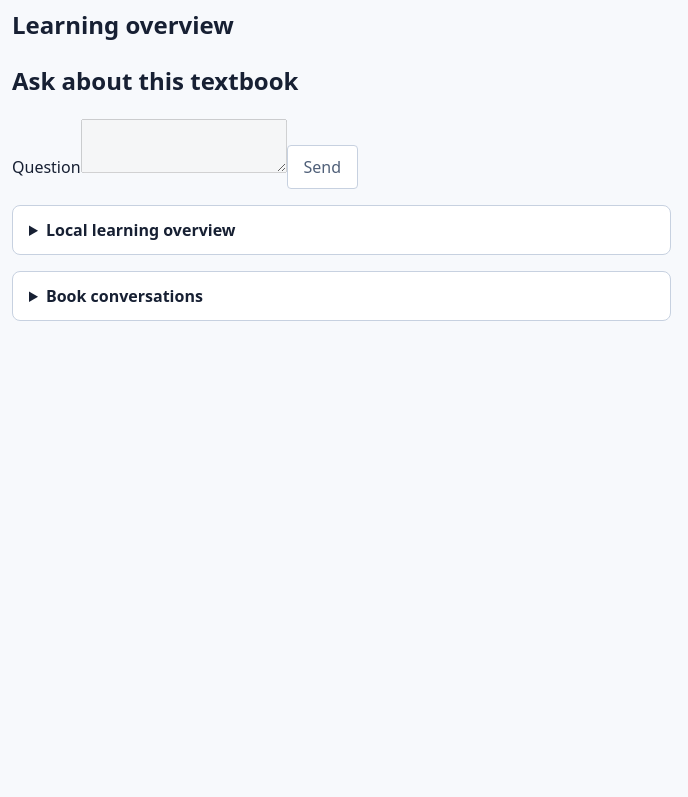
it: OverviewPage › keeps the local overview and completed history usable when AI is unavailable
This screenshot has width=688, height=797.
Click the heading "Local learning overview" at (141, 230), box [46, 219, 236, 241]
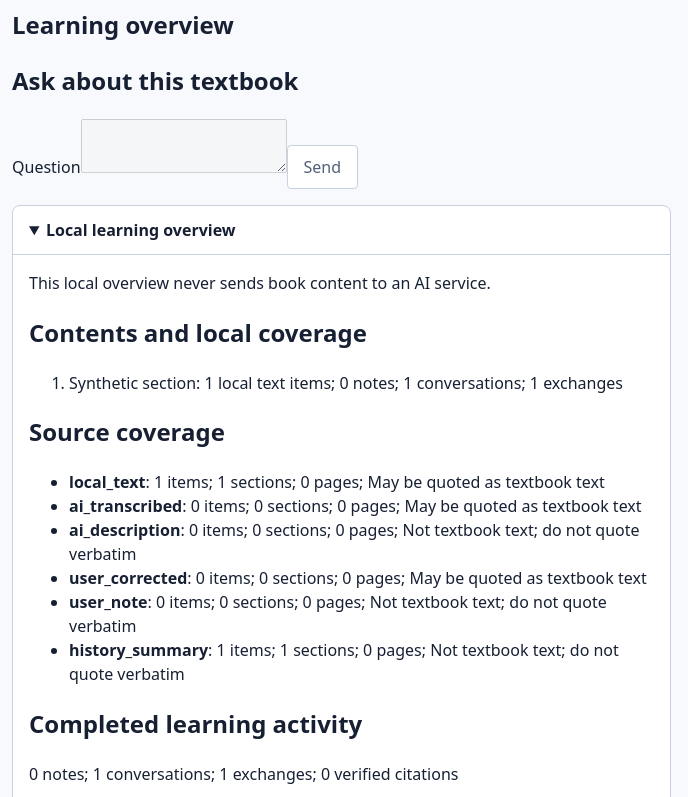
Expected: the text "local_text" is shown, [69, 471, 145, 493]
Expected: the text "ai_transcribed" is shown, [69, 495, 182, 517]
Expected: the text "ai_description" is shown, [69, 519, 180, 541]
